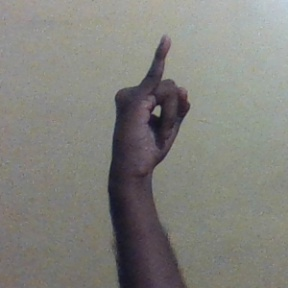I: (109, 34, 196, 173)
